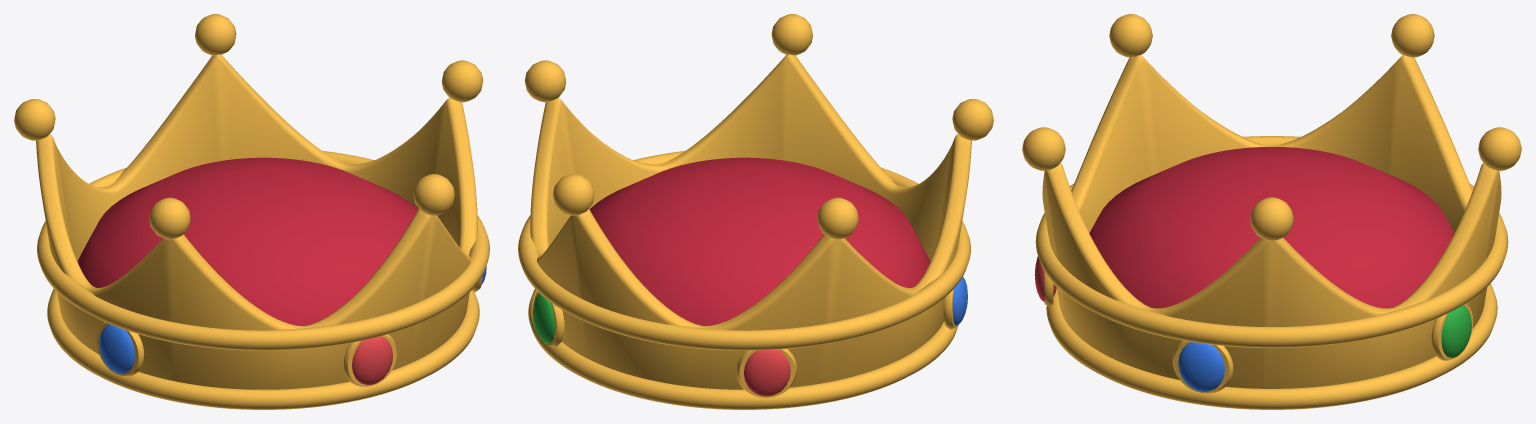
Rendered from crown.glb.
The picture shows the model from 3 angles, left to right: view 1: azimuth 30°, elevation 25°; view 2: azimuth 150°, elevation 25°; view 3: azimuth 270°, elevation 25°; orthographic projection. The views are drawn at different scales.
Parts seen in each view (by area): view 1: koruna, koruna_polstar, koruna_obruba_0.095, koruna_obruba_0.008, koruna_kamen_0, koruna_kulicka_3, koruna_kulicka_0, koruna_kulicka_2, koruna_kulicka_4, koruna_kamen_4, koruna_kulicka_1, koruna_luzko_0 (+1 smaller); view 2: koruna, koruna_polstar, koruna_obruba_0.095, koruna_obruba_0.008, koruna_kamen_3, koruna_kulicka_2, koruna_kulicka_0, koruna_kulicka_1, koruna_kulicka_3, koruna_kulicka_4, koruna_kamen_2, koruna_luzko_3 (+2 smaller); view 3: koruna, koruna_polstar, koruna_obruba_0.095, koruna_obruba_0.008, koruna_kamen_1, koruna_kulicka_0, koruna_kulicka_1, koruna_kulicka_4, koruna_kulicka_2, koruna_kulicka_3, koruna_kamen_2, koruna_luzko_1 (+1 smaller).
Part boxes in pixels (x1,y1,x2,y2): koruna: [36, 54, 477, 389]; koruna_polstar: [77, 157, 418, 325]; koruna_obruba_0.095: [37, 151, 489, 350]; koruna_obruba_0.008: [47, 289, 479, 409]; koruna_kamen_0: [352, 336, 392, 385]; koruna_kulicka_3: [149, 197, 190, 239]; koruna_kulicka_0: [441, 60, 483, 102]; koruna_kulicka_2: [14, 99, 55, 140]; koruna_kulicka_4: [413, 174, 454, 215]; koruna_kamen_4: [99, 324, 134, 374]; koruna_kulicka_1: [195, 14, 236, 55]; koruna_luzko_0: [343, 334, 396, 386]; koruna: [530, 54, 971, 389]; koruna_polstar: [589, 157, 930, 325]; koruna_obruba_0.095: [518, 151, 970, 350]; koruna_obruba_0.008: [528, 289, 958, 409]; koruna_kamen_3: [744, 349, 790, 396]; koruna_kulicka_2: [817, 197, 858, 239]; koruna_kulicka_0: [524, 60, 566, 102]; koruna_kulicka_1: [553, 174, 594, 215]; koruna_kulicka_3: [952, 99, 993, 140]; koruna_kulicka_4: [771, 14, 812, 55]; koruna_kamen_2: [533, 293, 554, 343]; koruna_luzko_3: [736, 349, 797, 397]; koruna: [1042, 55, 1501, 388]; koruna_polstar: [1089, 147, 1454, 308]; koruna_obruba_0.095: [1035, 136, 1508, 348]; koruna_obruba_0.008: [1046, 283, 1497, 409]; koruna_kamen_1: [1178, 342, 1224, 391]; koruna_kulicka_0: [1250, 197, 1293, 240]; koruna_kulicka_1: [1478, 127, 1521, 170]; koruna_kulicka_4: [1022, 127, 1065, 170]; koruna_kulicka_2: [1391, 14, 1434, 57]; koruna_kulicka_3: [1109, 14, 1152, 57]; koruna_kamen_2: [1441, 305, 1471, 358]; koruna_luzko_1: [1172, 340, 1233, 393].
Bounding box in the file's own units: 0.5919 × 0.2884 × 0.5941.
